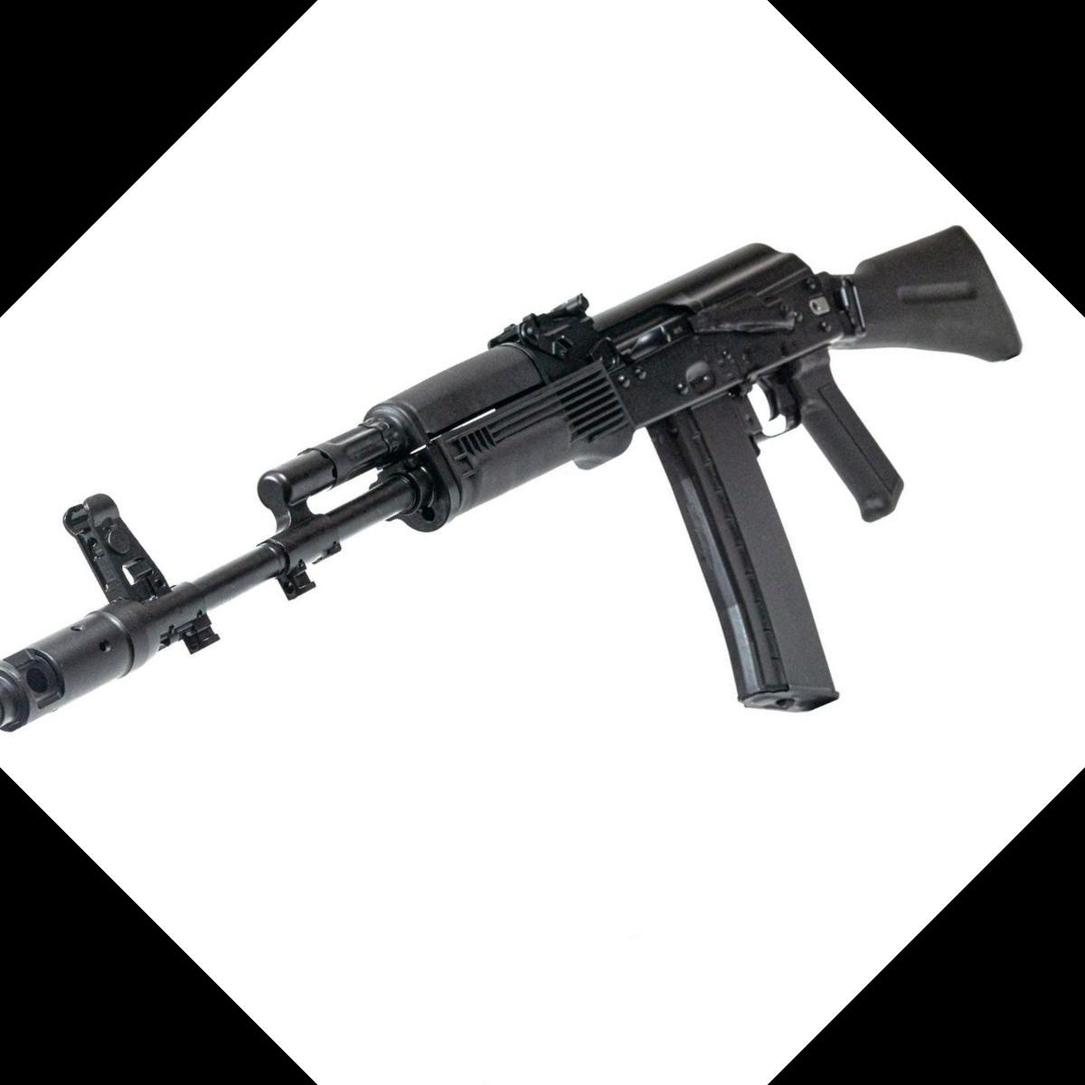larga: (0, 224, 1025, 737)
